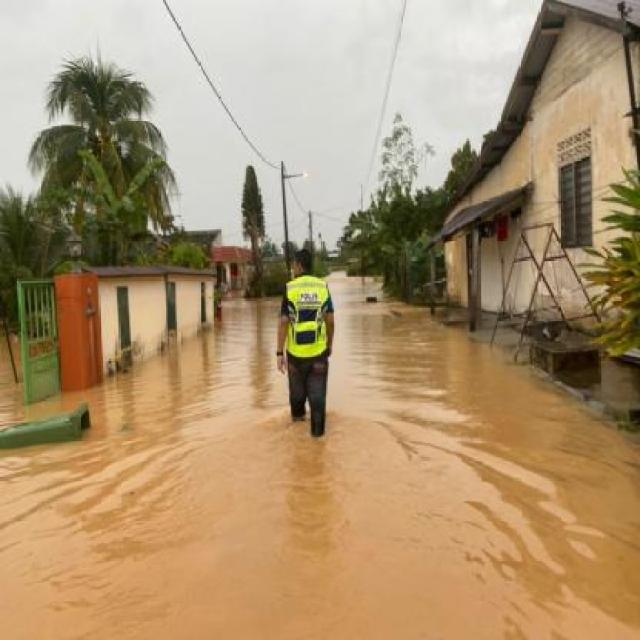rescuer: (273, 246, 342, 454)
